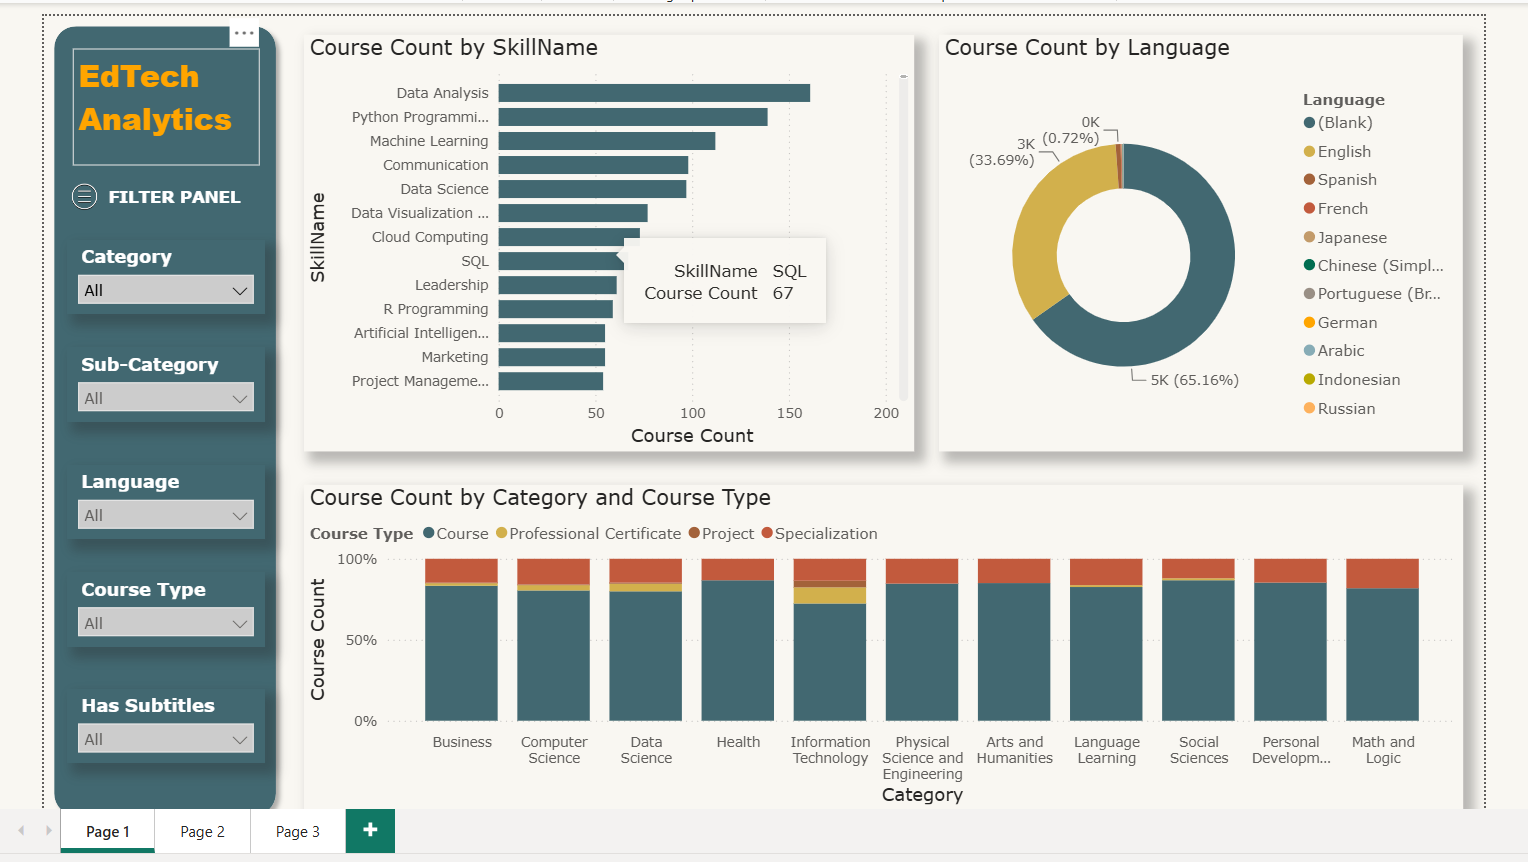

This screenshot's page, from the dashboard's own definition file:
{"tool":"powerbi","page":{"name":"Page 1","canvas":[1280,720],"ordinal":0},"visuals":[{"type":"hundredPercentStackedColumnChart","fields":{"Category":["DimCategory.Category"],"Y":["FactCourses.Course Count"],"Series":["FactCourses.Course Type"]},"box":[231.1,416.7,1030,288.9],"z":0},{"type":"clusteredBarChart","fields":{"Category":["DimSkills.SkillName"],"Y":["FactCourses.Course Count"]},"box":[231.1,16.7,542.2,370],"z":1000},{"type":"donutChart","fields":{"Category":["DimLanguage.Language"],"Y":["FactCourses.Course Count"]},"box":[795.6,16.7,465.6,370],"z":2000},{"type":"shape","box":[0,0,215.1,719.8],"z":8000},{"type":"textbox","title":"EdTech Analytics Overview","box":[25.6,29.1,166.3,104.7],"z":9000},{"type":"textbox","box":[52.2,146.5,144.3,27.8],"z":10000},{"type":"image","box":[19.6,146.5,32.6,27.8],"z":11000},{"type":"slicer","fields":{"Values":["DimCategory.Category"]},"box":[19.8,198.8,176.7,66.3],"z":11500},{"type":"slicer","fields":{"Values":["FactCourses.Sub-Category"]},"box":[19.8,294.2,176.7,66.3],"z":12000},{"type":"slicer","fields":{"Values":["DimLanguage.Language"]},"box":[19.8,398.8,176.7,66.3],"z":12500},{"type":"slicer","fields":{"Values":["FactCourses.Subtitle_Available"]},"box":[19.8,597.7,176.7,66.3],"z":13000},{"type":"slicer","fields":{"Values":["FactCourses.Course Type"]},"box":[19.8,494.2,176.7,66.3],"z":13500}]}

Visuals, with their boxes on the page's 1280x720 design canvas (x1, y1, x2, y2). These are canvas units, not pixel positions in the 1528x862 screenshot, which may show the page scaled, cropped or inside an application window:
hundredPercentStackedColumnChart - DimCategory.Category x FactCourses.Course Count: [231, 417, 1261, 706]
clusteredBarChart - DimSkills.SkillName x FactCourses.Course Count: [231, 17, 773, 387]
donutChart - DimLanguage.Language x FactCourses.Course Count: [796, 17, 1261, 387]
shape: [0, 0, 215, 720]
"EdTech Analytics Overview" textbox: [26, 29, 192, 134]
textbox: [52, 146, 196, 174]
image: [20, 146, 52, 174]
slicer - DimCategory.Category: [20, 199, 196, 265]
slicer - FactCourses.Sub-Category: [20, 294, 196, 360]
slicer - DimLanguage.Language: [20, 399, 196, 465]
slicer - FactCourses.Subtitle_Available: [20, 598, 196, 664]
slicer - FactCourses.Course Type: [20, 494, 196, 560]
